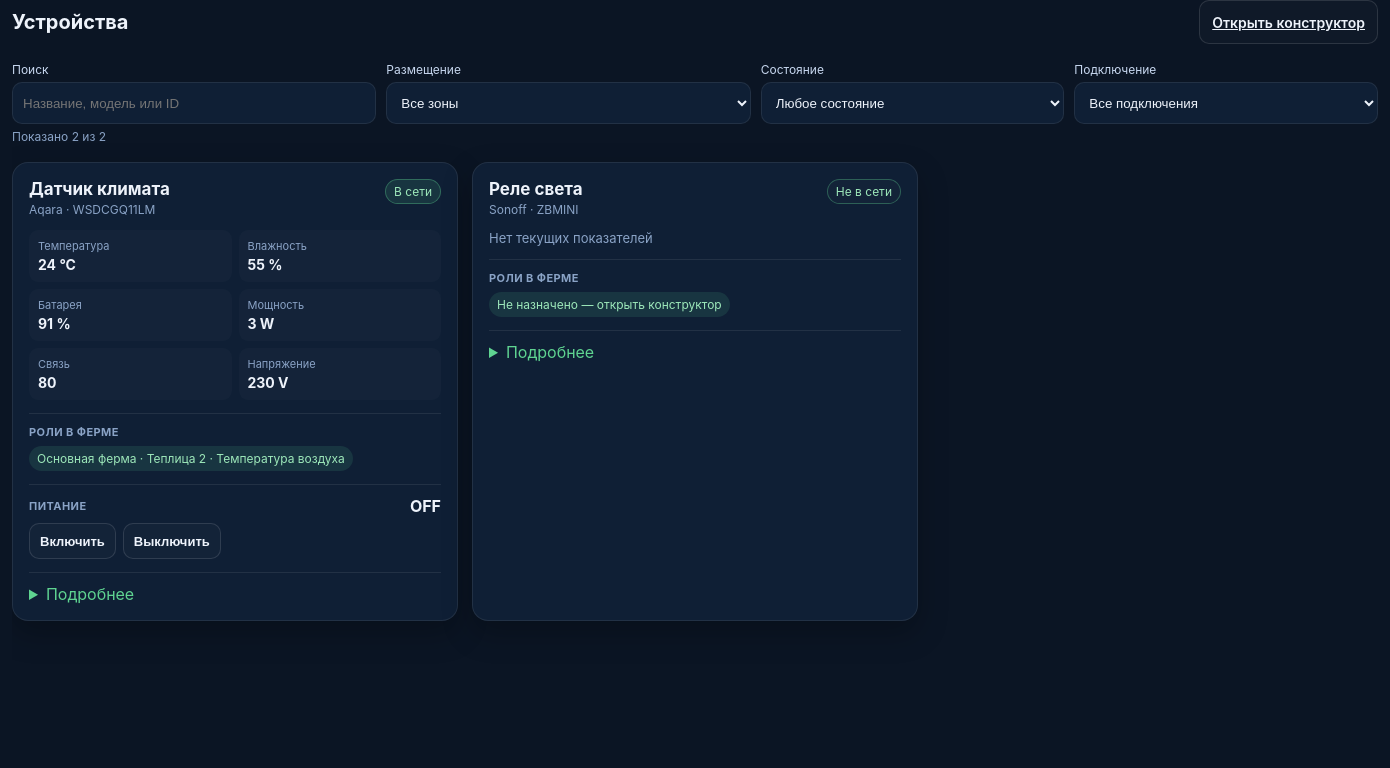
Test: AppZigbeeDevices › fonovoe chtenie ne skryvaet oshibku komandy i ne povtoryaet ee
The width and height of the screenshot is (1390, 768).
What coordinates should you click on to do the following:
click the button "Включить"
I would click on:
 (72, 541)
Its box is [29,523,116,559].
Wait 5000 ms
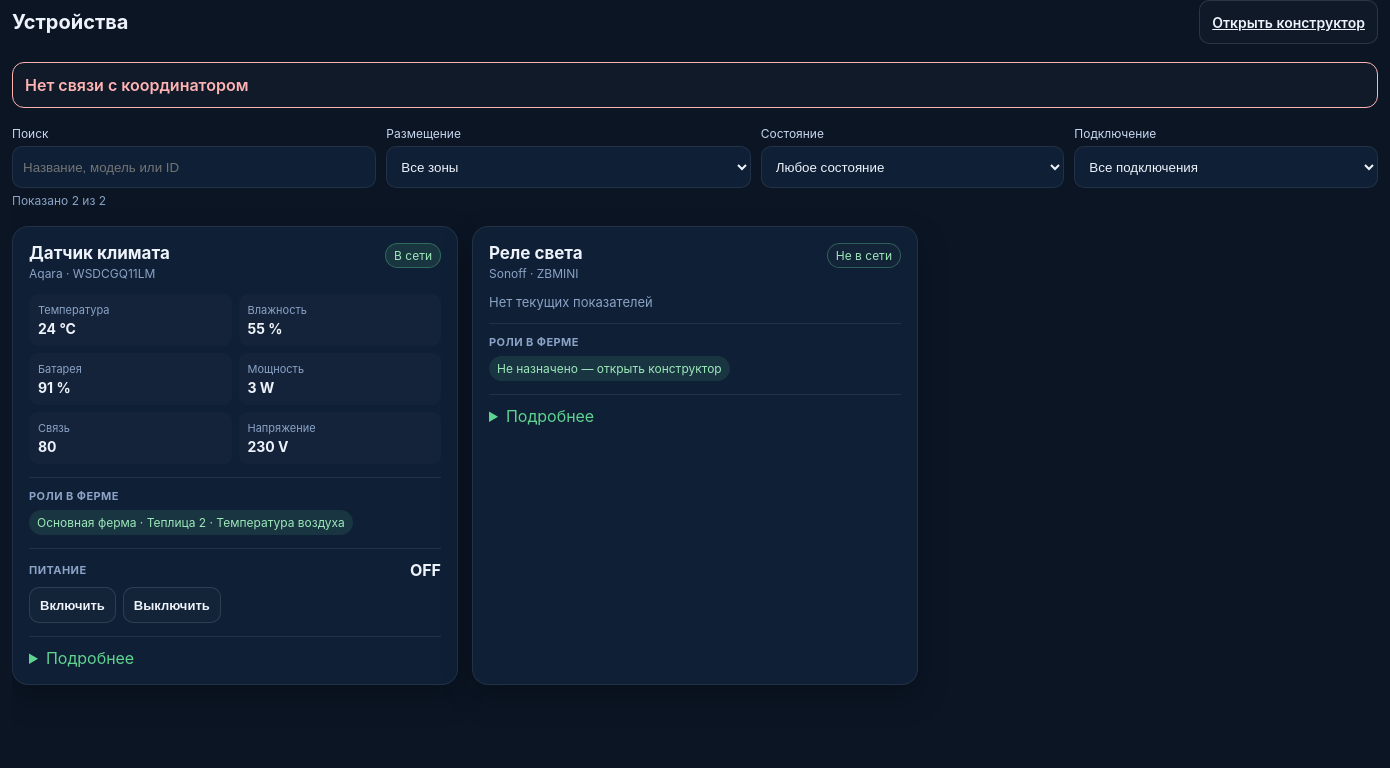
Now the text "Нет связи с координатором" is shown, box [25,75,248,95]
